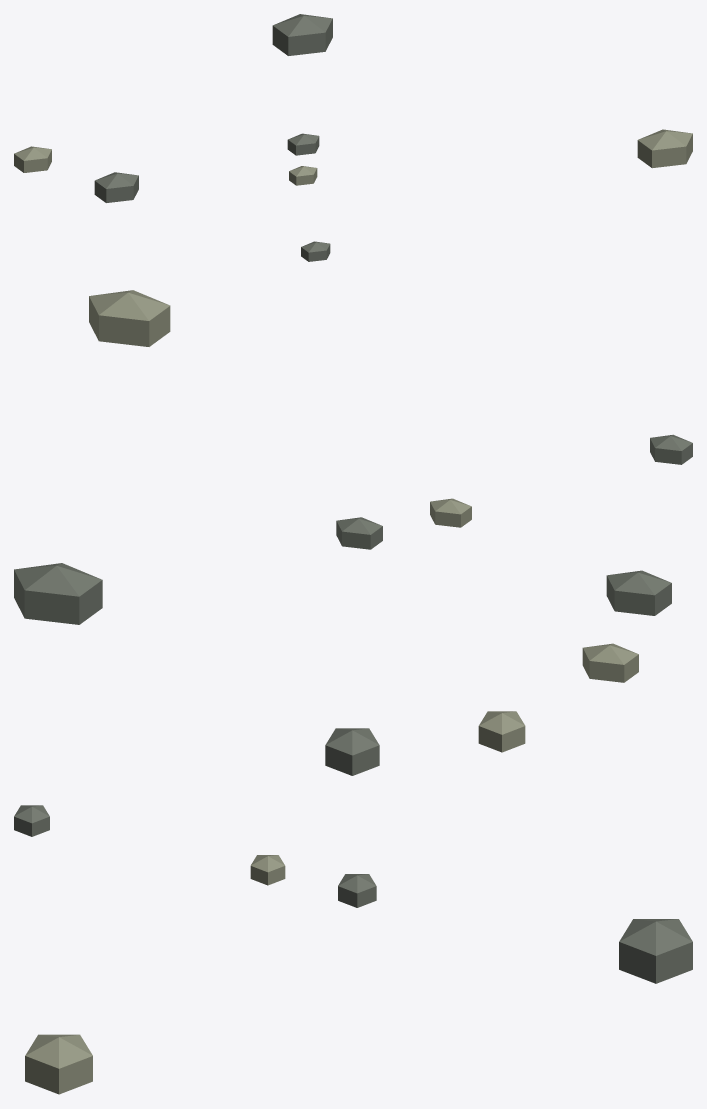
Rendered from pebble_scatter_lod0.obj.
The picture shows the model from 3 angles, top to bottom: view 1: azimuth 30°, elevation 25°; view 2: azimuth 150°, elevation 25°; view 3: azimuth 270°, elevation 25°; orthographic projection. The views are drawn at different scales.
Visible parts, largest first — view 1: pebble_scatter_lod0; view 2: pebble_scatter_lod0; view 3: pebble_scatter_lod0.
Boxes of the visible parts, x1=… form: pebble_scatter_lod0: x1=14, y1=14, x2=692, y2=261; pebble_scatter_lod0: x1=14, y1=290, x2=692, y2=682; pebble_scatter_lod0: x1=14, y1=711, x2=692, y2=1094.
Size of the model in its own units: 1.92 by 0.1354 by 1.49.
Materials: 1 (1 with a texture image).
